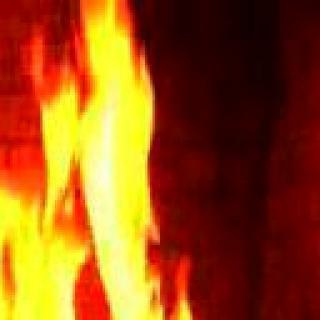fire: (0, 41, 209, 320)
